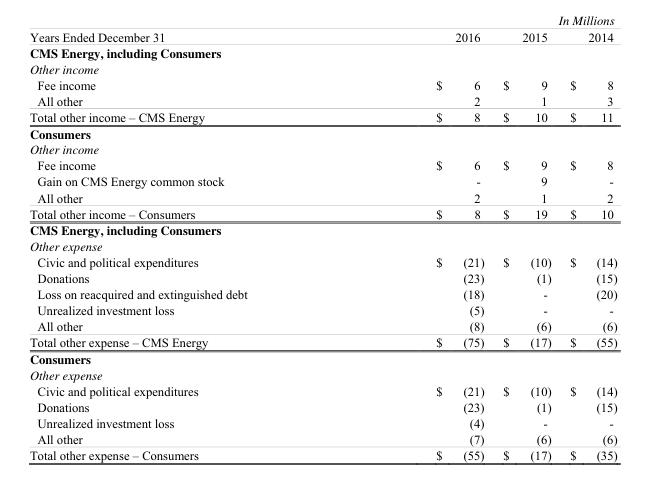table: (28, 29, 616, 461)
table column: (28, 29, 340, 461), (340, 29, 492, 461), (492, 29, 559, 461), (559, 29, 616, 461)
table column header: (28, 29, 616, 43)
table projected row header: (28, 220, 616, 238), (28, 43, 616, 60), (28, 124, 616, 141), (28, 349, 616, 366), (28, 60, 616, 76), (28, 141, 616, 157), (28, 366, 616, 382), (28, 238, 616, 253)
table row: (28, 220, 616, 238), (28, 43, 616, 60), (28, 124, 616, 141), (28, 317, 616, 334), (28, 349, 616, 366), (28, 60, 616, 76), (28, 76, 616, 92), (28, 92, 616, 108), (28, 108, 616, 124), (28, 141, 616, 157), (28, 157, 616, 173), (28, 173, 616, 189), (28, 189, 616, 205), (28, 253, 616, 269), (28, 269, 616, 285), (28, 285, 616, 301), (28, 301, 616, 317), (28, 366, 616, 382), (28, 382, 616, 398), (28, 398, 616, 414), (28, 414, 616, 430), (28, 430, 616, 446), (28, 205, 616, 220), (28, 238, 616, 253), (28, 334, 616, 349), (28, 446, 616, 461), (28, 29, 616, 43)
